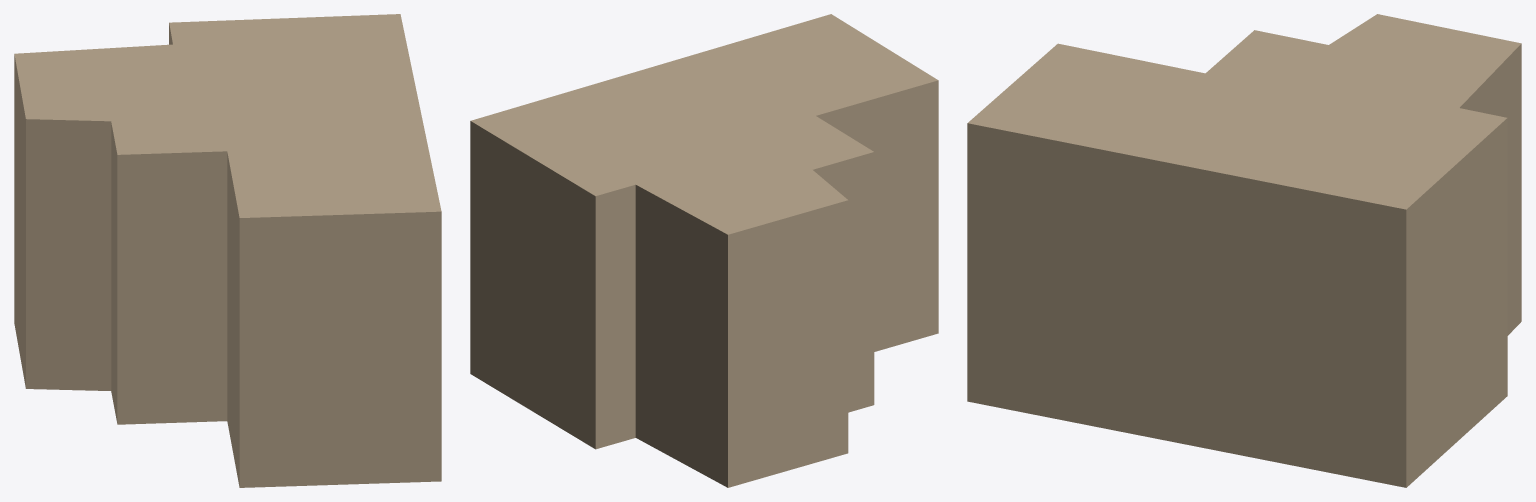
File: bld_107914642.dae
3 renders of one model, left to right at view 1: azimuth 30°, elevation 25°; view 2: azimuth 150°, elevation 25°; view 3: azimuth 270°, elevation 25°, orthographic. The views are drawn at different scales.
Visible parts, largest first — view 1: bld_107914642; view 2: bld_107914642; view 3: bld_107914642.
Part boxes in pixels (x1,y1,x2,y2): bld_107914642: [14, 14, 441, 487]; bld_107914642: [470, 14, 938, 487]; bld_107914642: [967, 14, 1521, 487].
Bounding box in the file's own units: 12.06 × 14.44 × 8.
